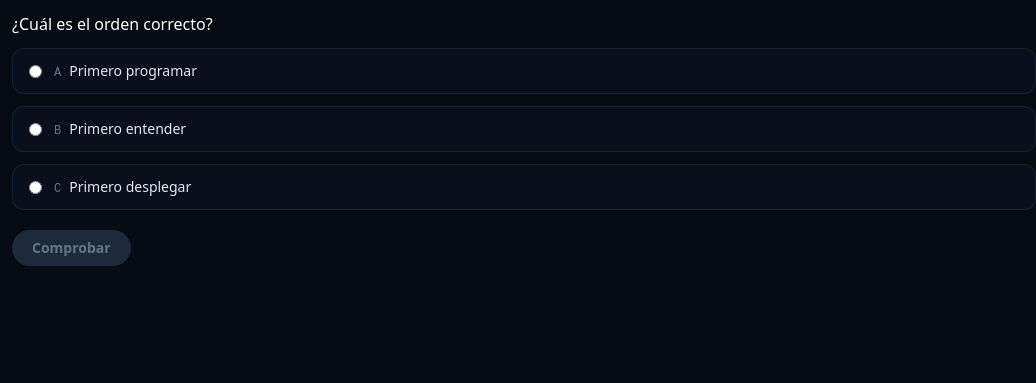
QuizPlayer › envía la opción elegida y explica un acierto
Click the radio button labelled "Primero entender" at (36, 130), box x1=29 y1=123 x2=42 y2=136
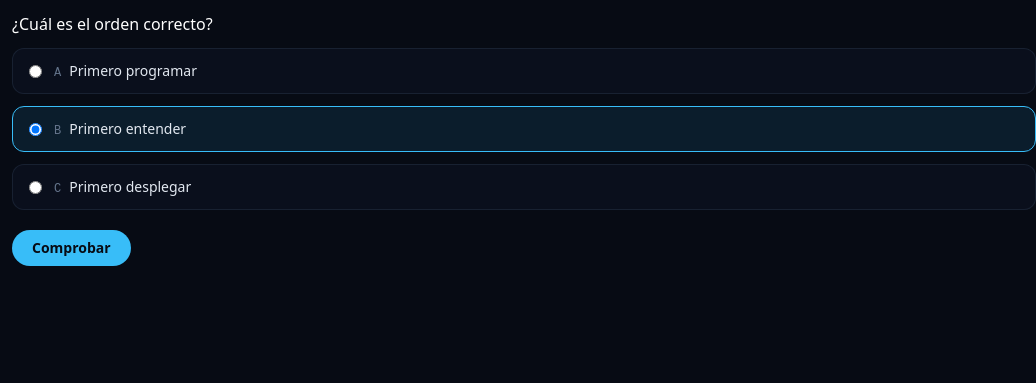
Click the button "Comprobar" at (71, 248), box x1=12 y1=230 x2=131 y2=266
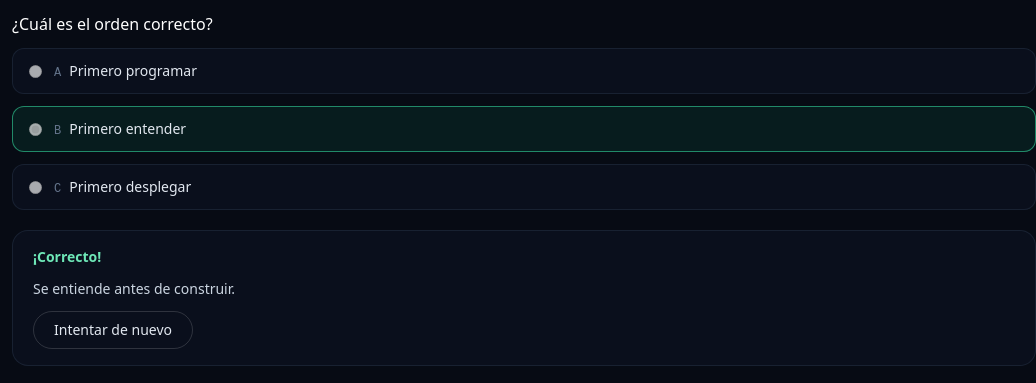
Result: the text "¡Correcto!" is shown at x1=33 y1=247 x2=101 y2=266
Result: the text "Se entiende antes de construir." is shown at x1=33 y1=279 x2=235 y2=298
